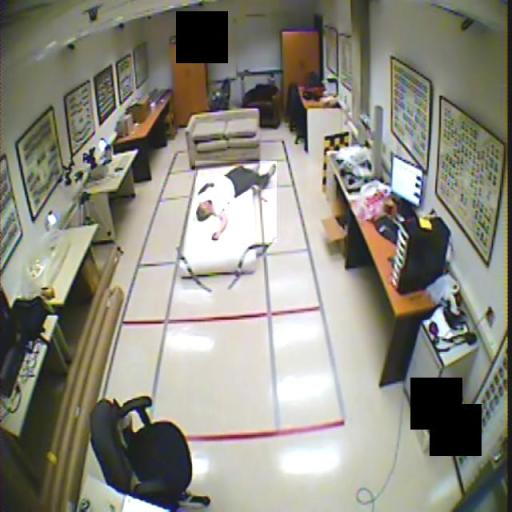Fall: (195, 161, 277, 242)
